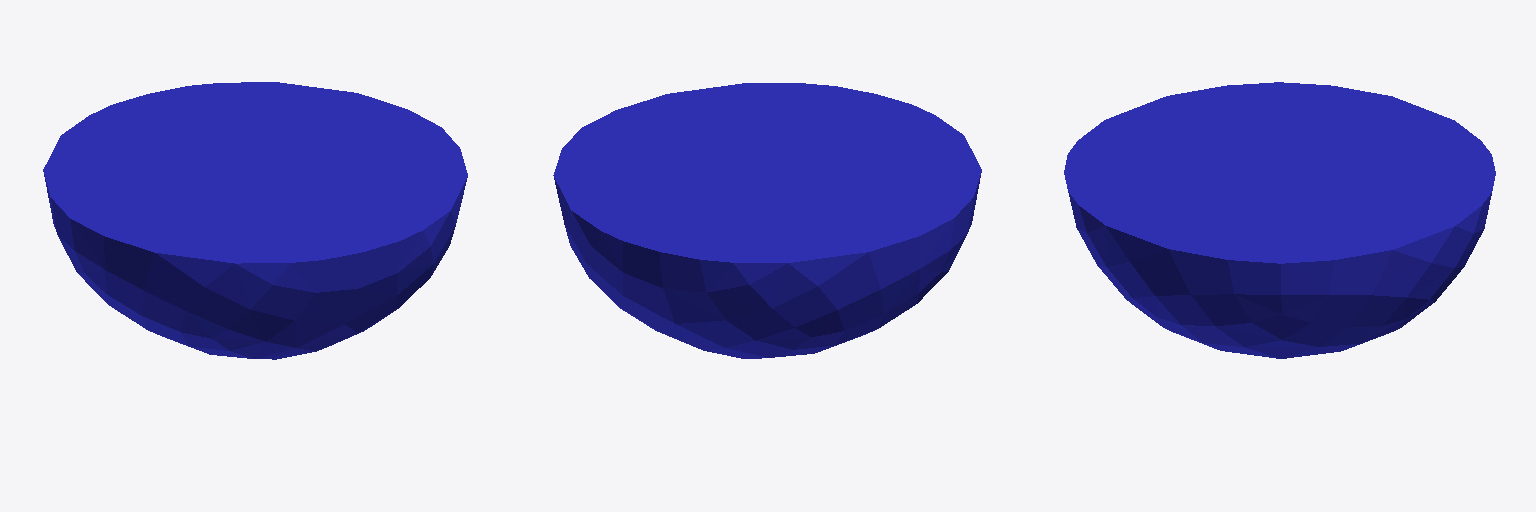
File: Dome.obj
The picture shows the model from 3 angles: view 1: azimuth 30°, elevation 25°; view 2: azimuth 150°, elevation 25°; view 3: azimuth 270°, elevation 25°; orthographic projection.
Parts seen in each view (by area): view 1: Dome_0; view 2: Dome_0; view 3: Dome_0.
Part boxes in pixels (x1,y1,x2,y2): Dome_0: (43,82,467,359); Dome_0: (553,83,981,358); Dome_0: (1064,82,1495,358).
Bounding box in the file's own units: 1.16 × 0.4942 × 1.16.